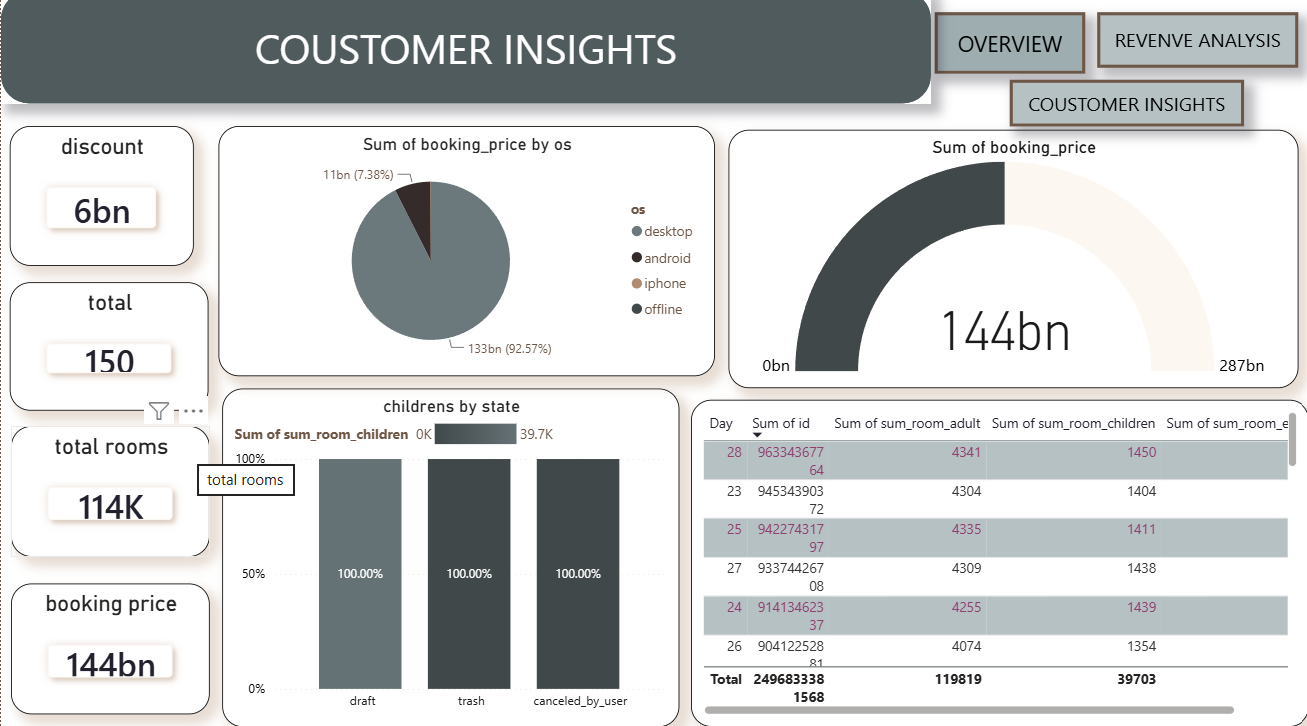

The page's visual inventory and layout, read from the dashboard file:
{"tool":"powerbi","page":{"name":"COUSTOMER INSIGHTS","canvas":[1280,720],"ordinal":1},"visuals":[{"type":"cardVisual","title":"total","fields":{"Data":["Max(hotel_reservations_pricing_revenue.total_room_nights)"]},"box":[8.6,284.9,194.4,126],"z":0},{"type":"cardVisual","title":"discount","fields":{"Data":["Sum(hotel_reservations_pricing_revenue.discount)"]},"box":[8.6,132.1,179.8,137],"z":1000},{"type":"cardVisual","title":"total rooms","fields":{"Data":["Sum(hotel_reservations_pricing_revenue.total_room_nights)"]},"box":[9.8,425.5,194.4,128.4],"z":2000},{"type":"cardVisual","title":"booking price","fields":{"Data":["Sum(hotel_reservations_pricing_revenue.booking_price)"]},"box":[9.8,579.6,194.4,128.4],"z":3000},{"type":"gauge","fields":{"Y":["Sum(hotel_reservations_pricing_revenue.booking_price)"]},"box":[711.7,135.7,557.6,253.1],"z":4000},{"type":"hundredPercentStackedColumnChart","title":" childrens by state","fields":{"Y":["Sum(hotel_reservations_pricing_revenue.sum_room_children)"],"Category":["hotel_reservations_pricing_revenue.state"]},"box":[216.4,388.9,447.6,331.4],"z":5000},{"type":"pieChart","fields":{"Category":["hotel_reservations_pricing_revenue.os"],"Y":["Sum(hotel_reservations_pricing_revenue.booking_price)"]},"box":[212.8,132.1,485.5,244.6],"z":6000},{"type":"tableEx","fields":{"Values":["hotel_reservations_pricing_revenue.booking_date.Variation.Date Hierarchy.Day","Sum(hotel_reservations_pricing_revenue.id)","Sum(hotel_reservations_pricing_revenue.sum_room_adult)","Sum(hotel_reservations_pricing_revenue.sum_room_children)","Sum(hotel_reservations_pricing_revenue.sum_room_extra_bed)"]},"box":[675,399.9,605.3,320.4],"z":7000},{"type":"actionButton","box":[913.3,20.5,147.2,60.3],"z":8000},{"type":"actionButton","box":[1072.5,20.5,196.6,54.3],"z":9000},{"type":"actionButton","box":[986.9,86.9,229.2,45.8],"z":10000},{"type":"shape","box":[0,0,909.8,110.1],"z":11000}]}

Visuals, with their boxes in screenshot pixels (x1, y1, x2, y2), scaled from the page's 1280x720 canvas onto the 1307x726 screenshot:
"total" cardVisual: [left=9, top=287, right=207, bottom=414]
"discount" cardVisual: [left=9, top=133, right=192, bottom=271]
"total rooms" cardVisual: [left=10, top=429, right=209, bottom=559]
"booking price" cardVisual: [left=10, top=584, right=209, bottom=714]
gauge - Sum(hotel_reservations_pricing_revenue.booking_price): [left=727, top=137, right=1296, bottom=392]
" childrens by state" hundredPercentStackedColumnChart: [left=221, top=392, right=678, bottom=725]
pieChart - hotel_reservations_pricing_revenue.os x Sum(hotel_reservations_pricing_revenue.booking_price): [left=217, top=133, right=713, bottom=380]
tableEx - hotel_reservations_pricing_revenue.booking_date.Variation.Date Hierarchy.Day x Sum(hotel_reservations_pricing_revenue.id): [left=689, top=403, right=1306, bottom=725]
actionButton: [left=933, top=21, right=1083, bottom=81]
actionButton: [left=1095, top=21, right=1296, bottom=75]
actionButton: [left=1008, top=88, right=1242, bottom=134]
shape: [left=0, top=0, right=929, bottom=111]
